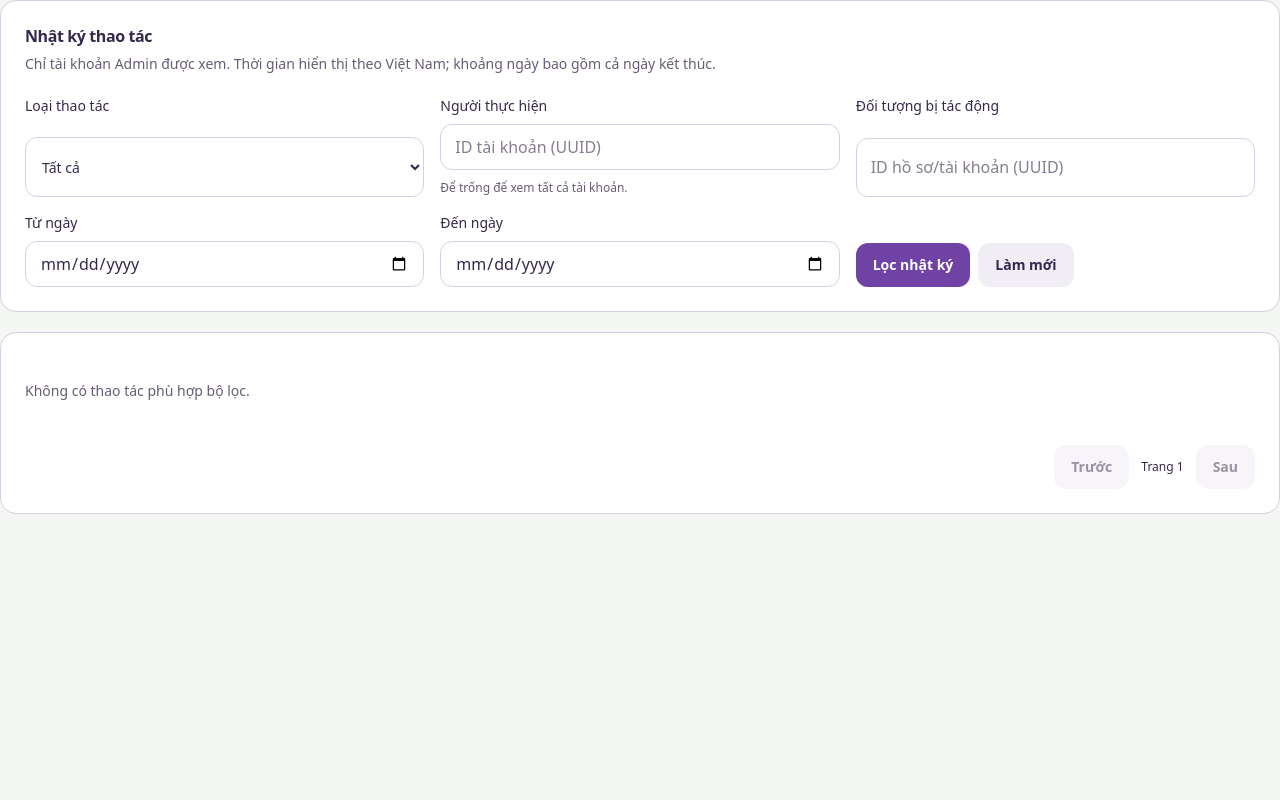
Test case: audit viewer › rejects inverted dates before sending the filter
Expected: the text "Không có thao tác phù hợp bộ lọc." is shown, [25,381,250,400]
Type "2026-10-29" into the date field labelled "Từ ngày". click: (225, 264)
box: [25,241,424,287]
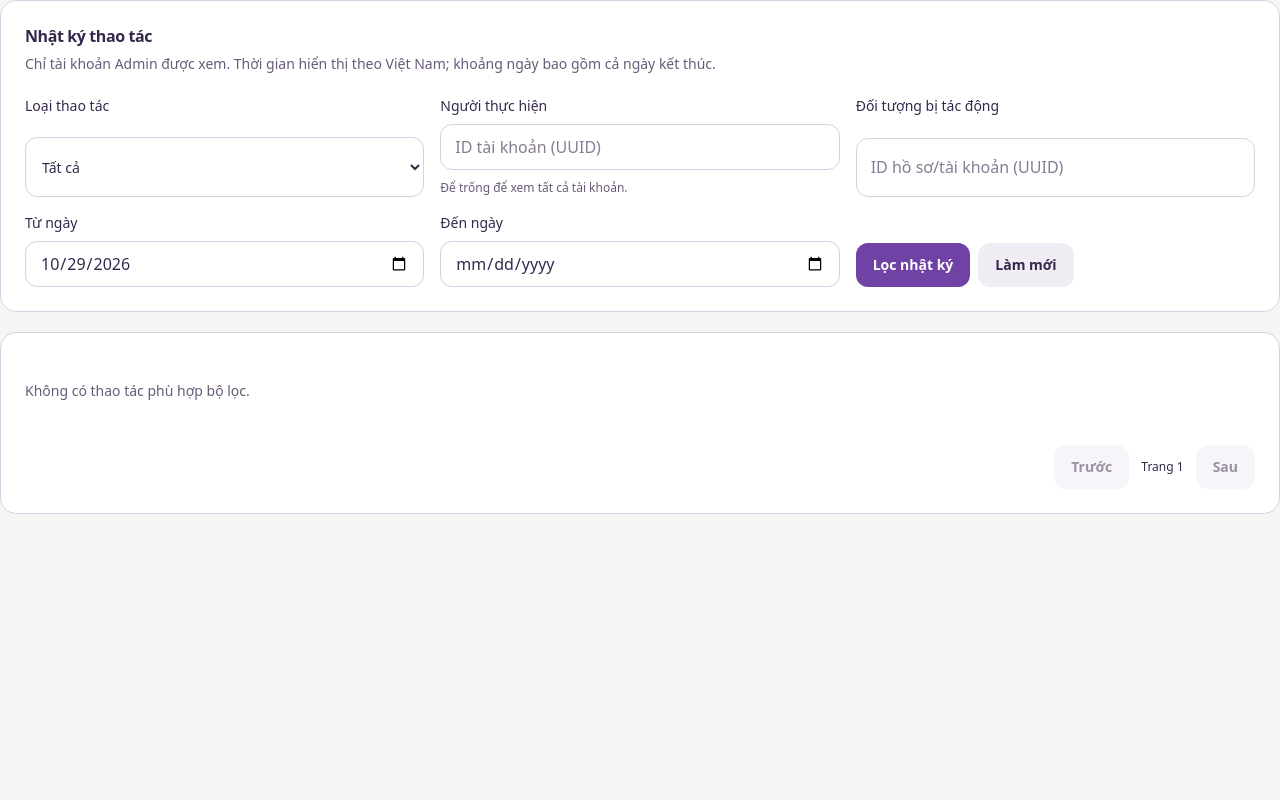
Type "2026-10-28" into the date field labelled "Đến ngày". click: (640, 264)
box: [440,241,840,287]
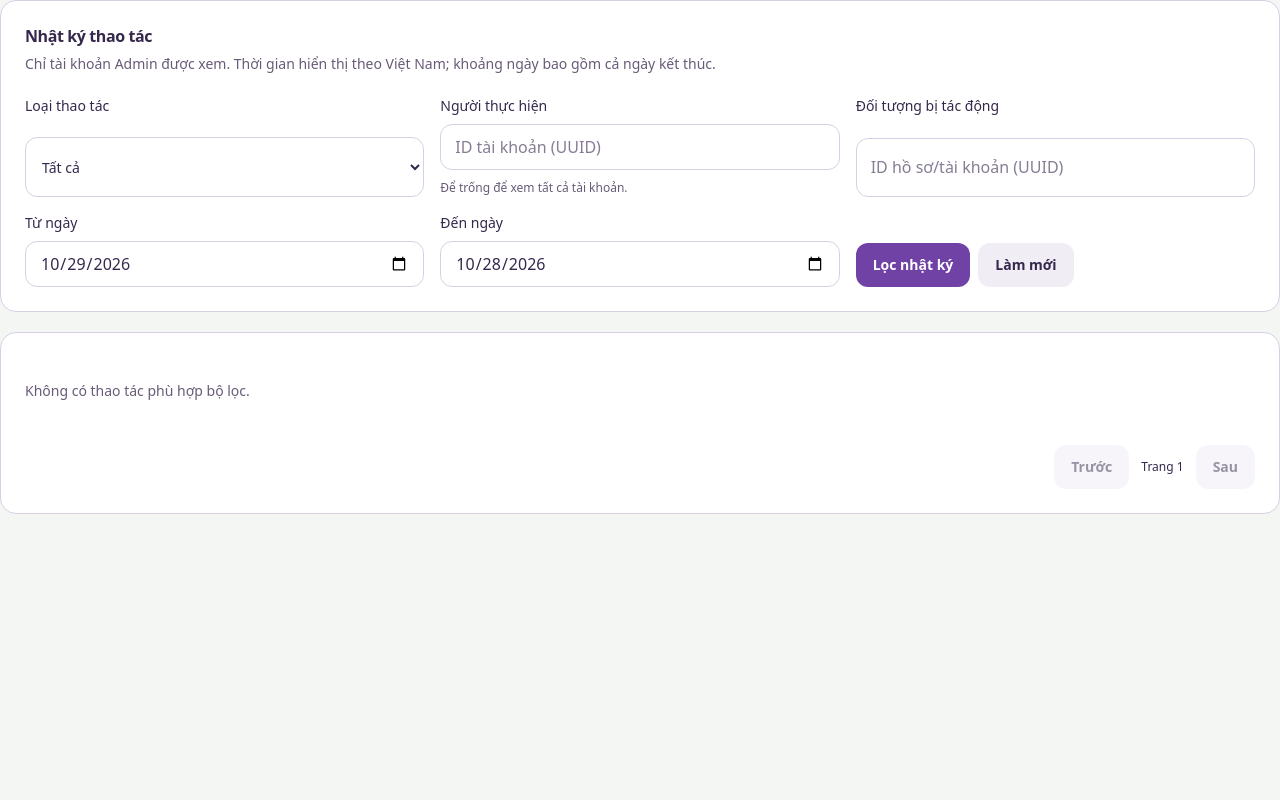
Click the button "Lọc nhật ký". click: (913, 265)
box: [856,243,970,287]
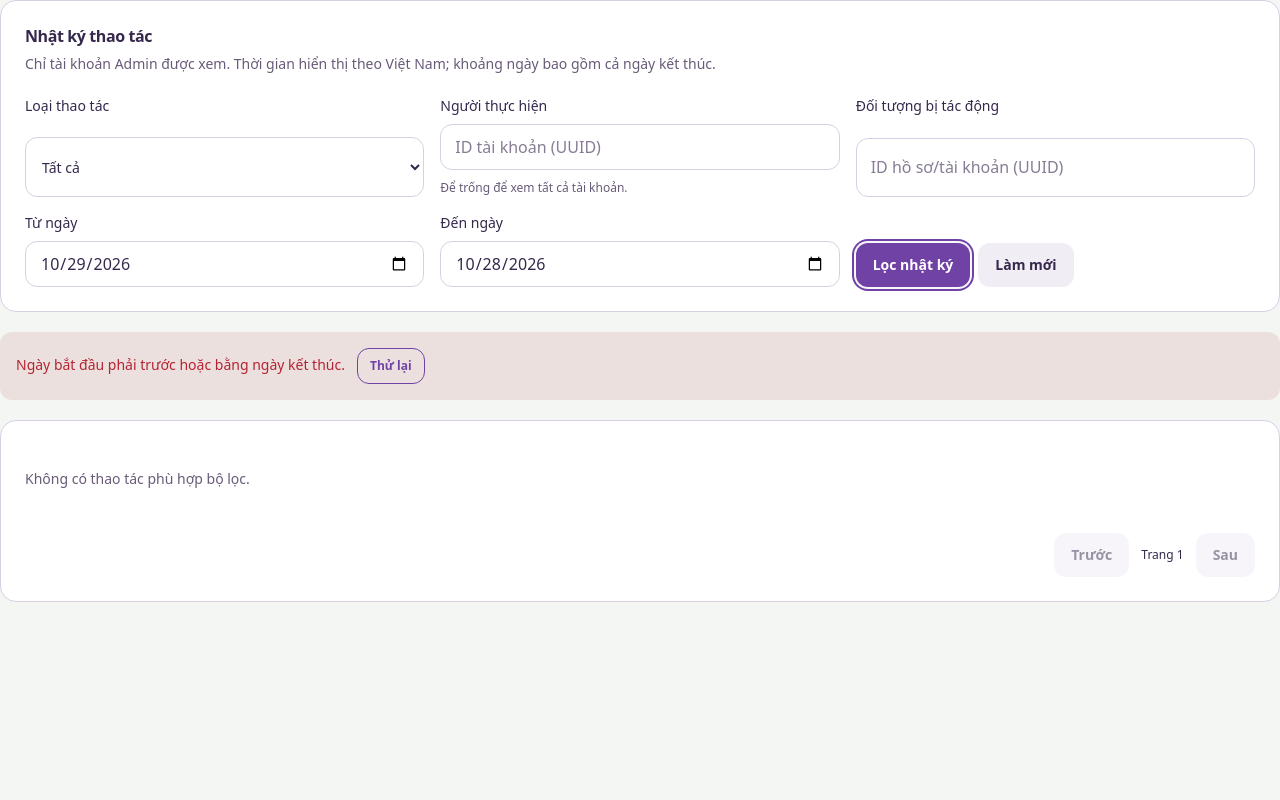
Now the message "Ngày bắt đầu phải trước hoặc bằng ngày kết thúc. Thử lại" is shown, box [0,332,1279,400]
